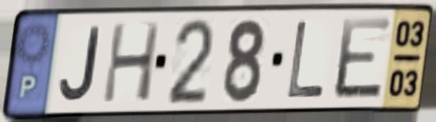2: (165, 16, 217, 108)
8: (221, 15, 269, 105)
E: (332, 14, 395, 102)
H: (100, 20, 163, 106)
J: (57, 24, 104, 103)
L: (284, 18, 328, 101)
